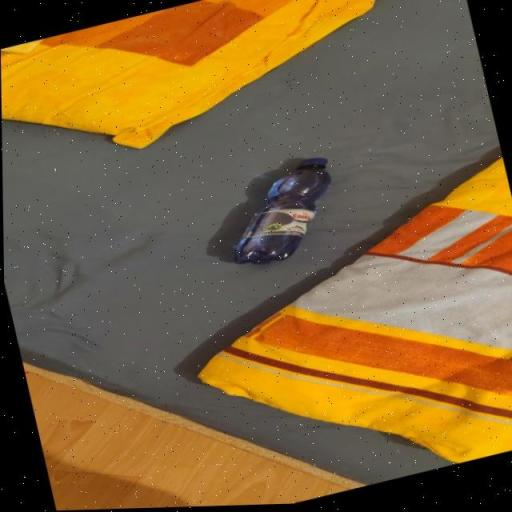plastic: (233, 159, 330, 267)
